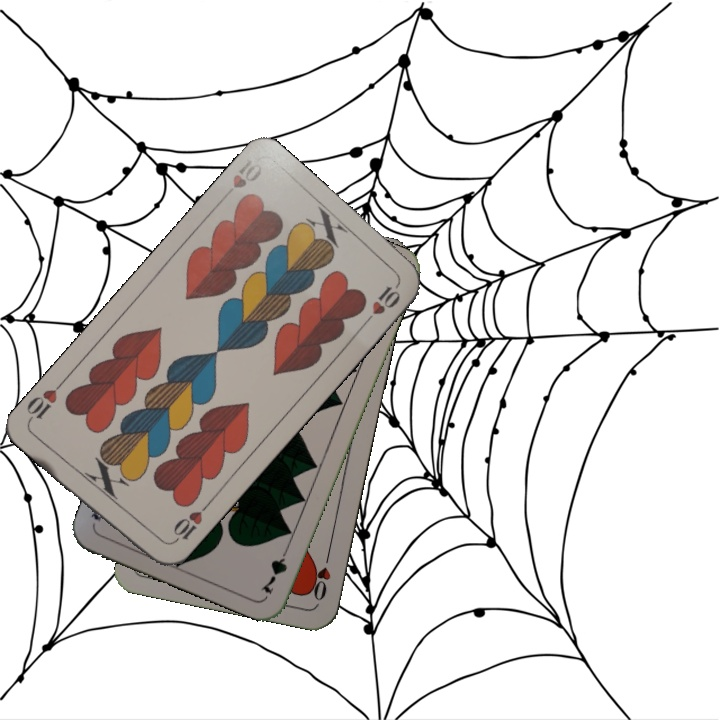G7: (257, 540, 293, 597)
H10: (216, 155, 265, 204), (166, 500, 211, 548)
HO: (306, 546, 334, 604)
